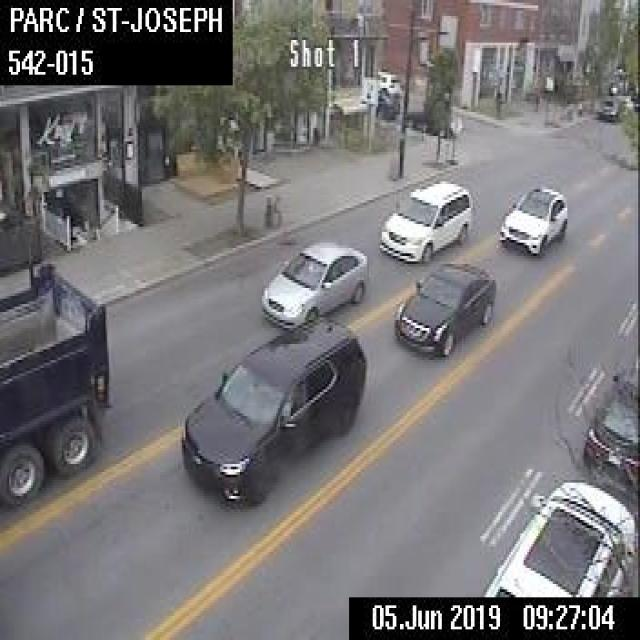vehicle: (182, 321, 366, 504), (0, 248, 109, 509), (478, 476, 638, 595), (393, 261, 495, 358), (260, 240, 366, 325), (578, 352, 638, 488), (379, 178, 472, 260), (497, 181, 568, 256), (594, 94, 625, 120), (376, 88, 400, 117), (377, 68, 400, 90)
